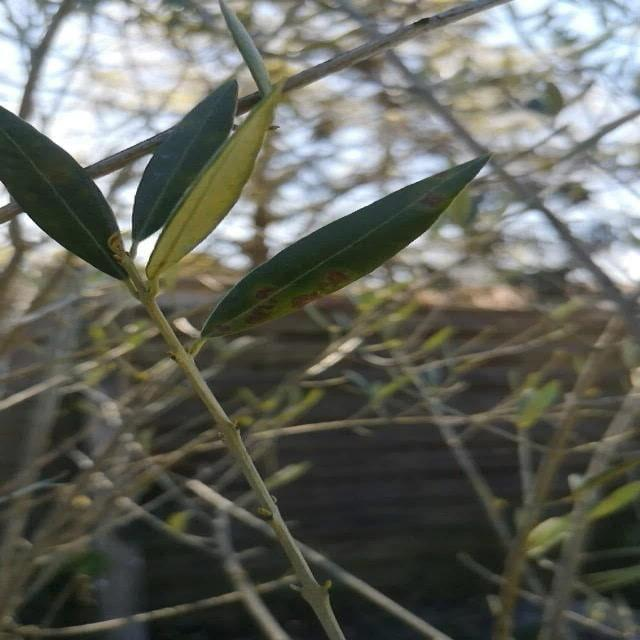Peacock Eye: (192, 156, 488, 350)
